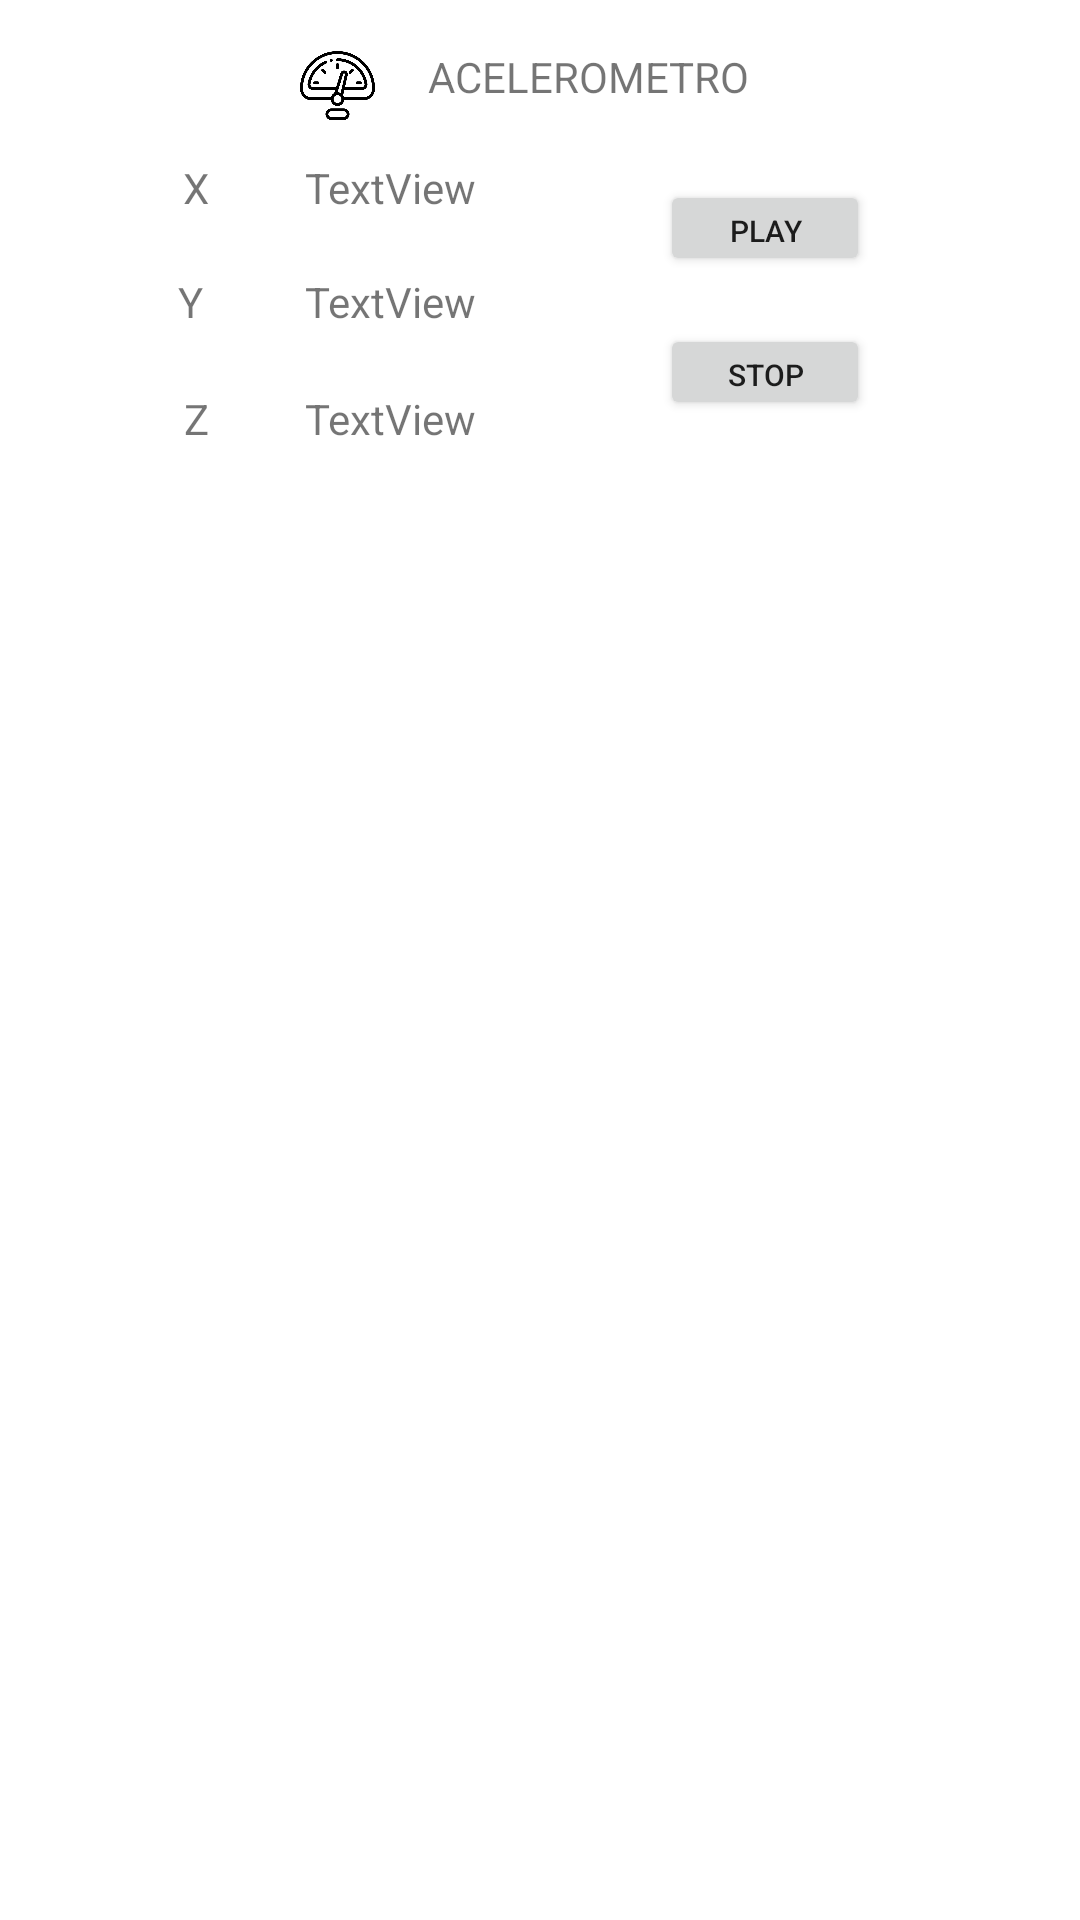

Icons on this 1080*1920 Android screen, each with the point to tap as [x,y]:
acelerar: [337,85]
